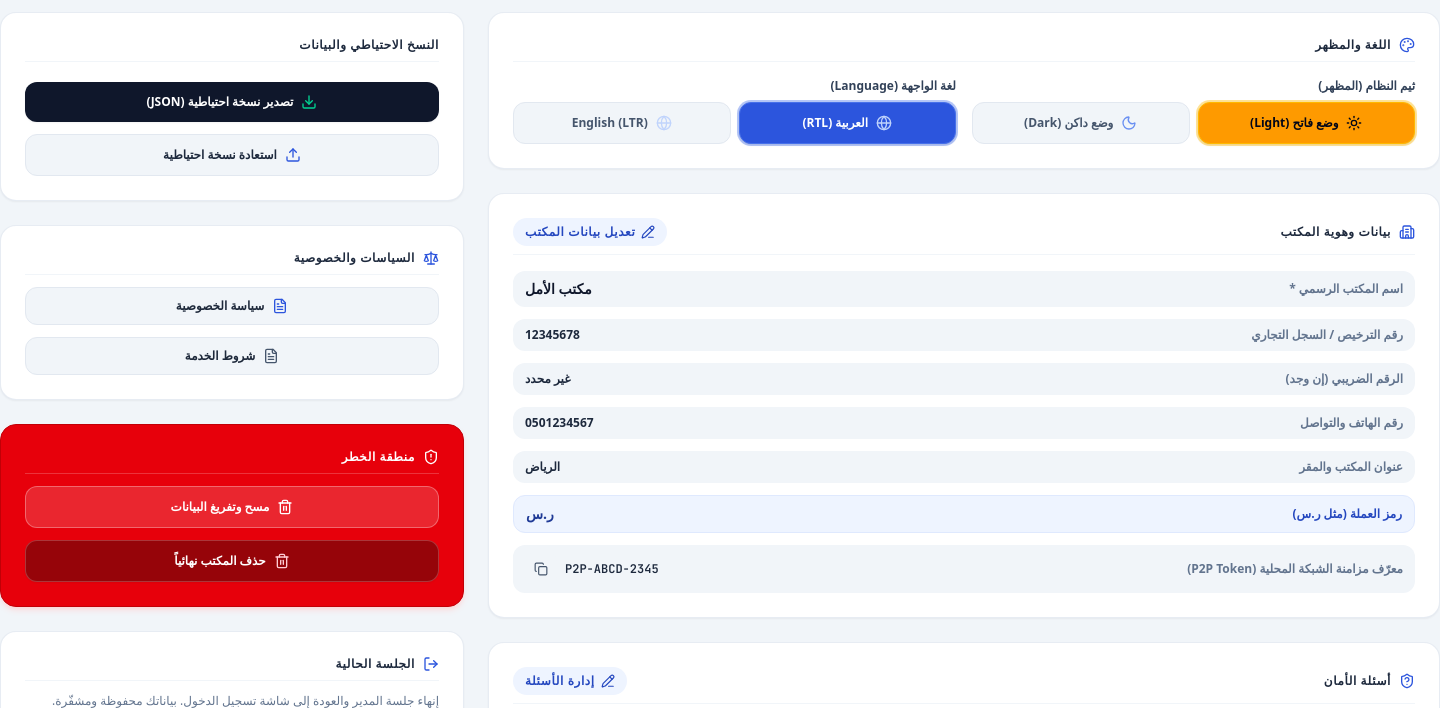
Test case: SettingsManager › discards unsaved edits when cancel is clicked
Click the button "تعديل بيانات المكتب".
click(590, 232)  # box [513,218,667,246]
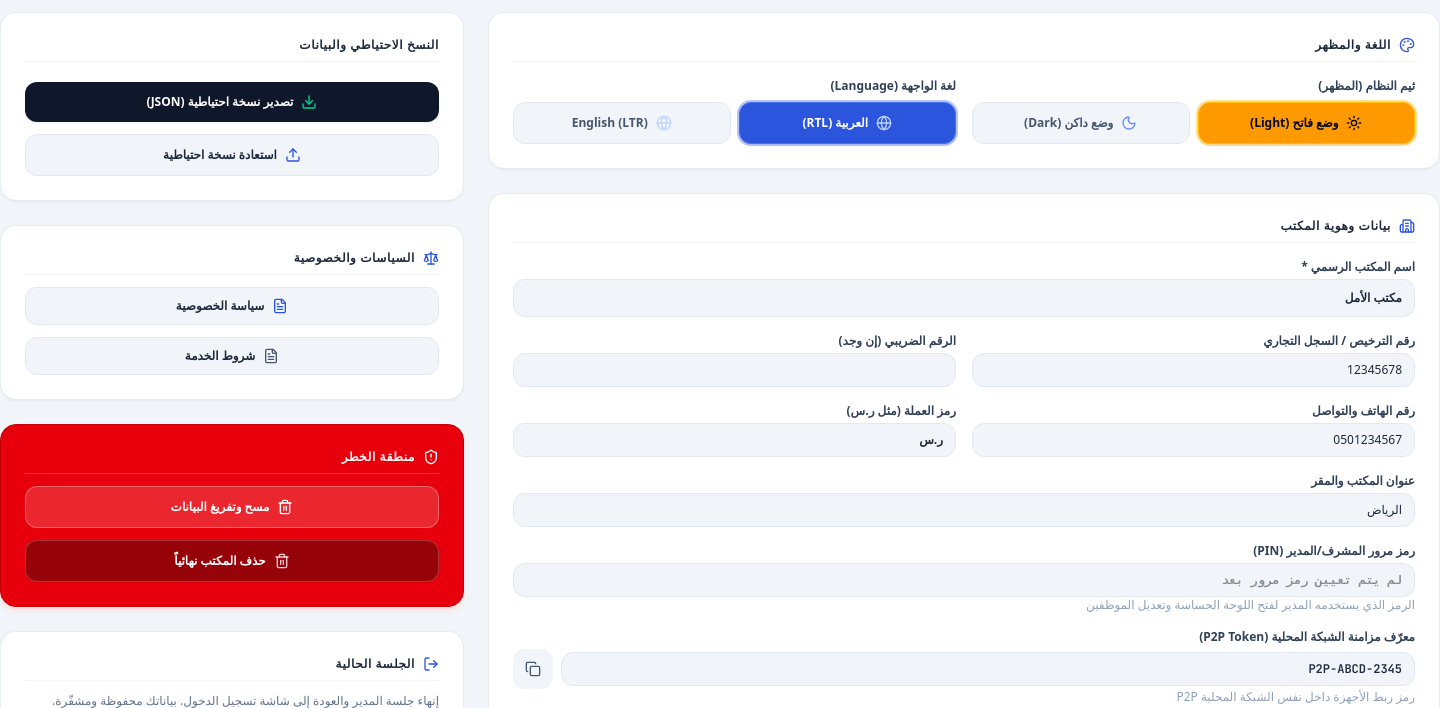
Replace the text in the field showing "مكتب الأمل" below "اسم المكتب الرسمي *" with "مكتب جديد" at (964, 298), box [513,279,1415,317]
(page scrolled)
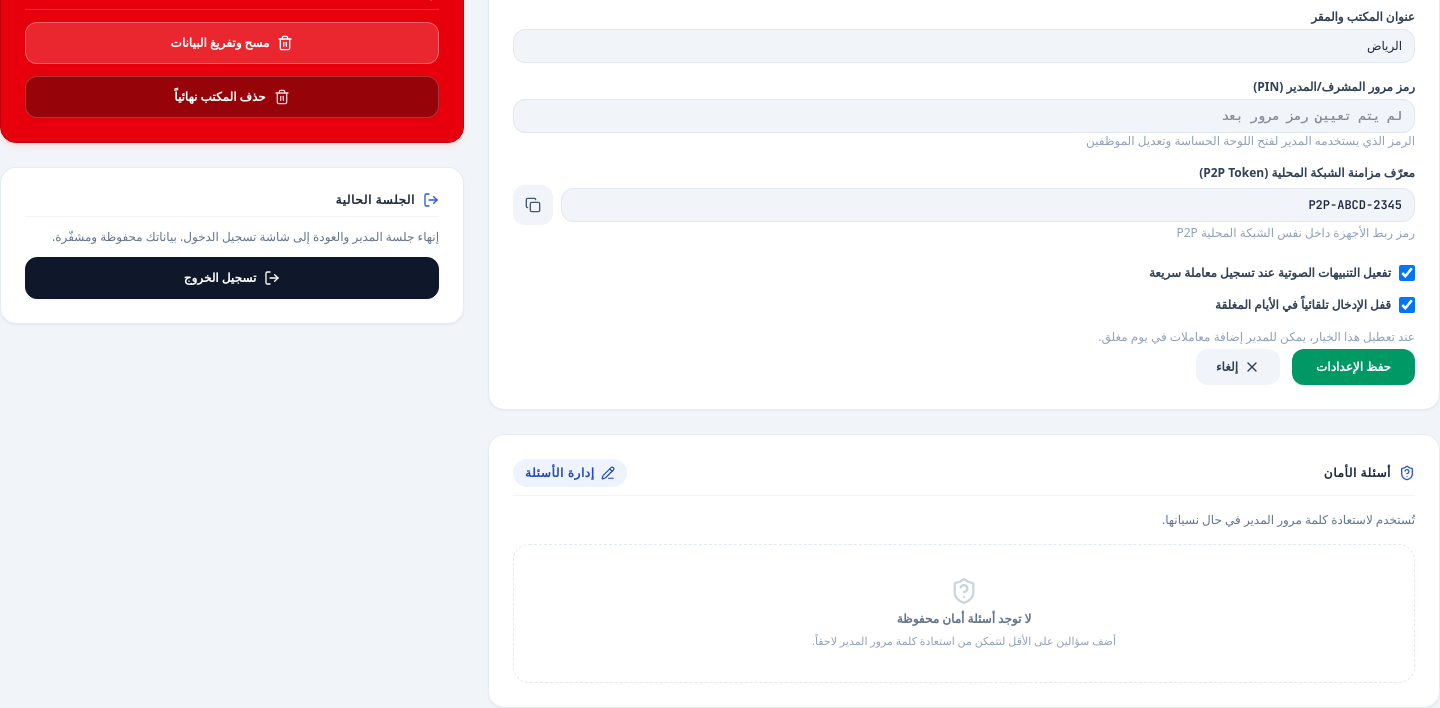
Click the button "إلغاء".
click(1238, 367)  # box [1196,349,1280,385]
(page scrolled)
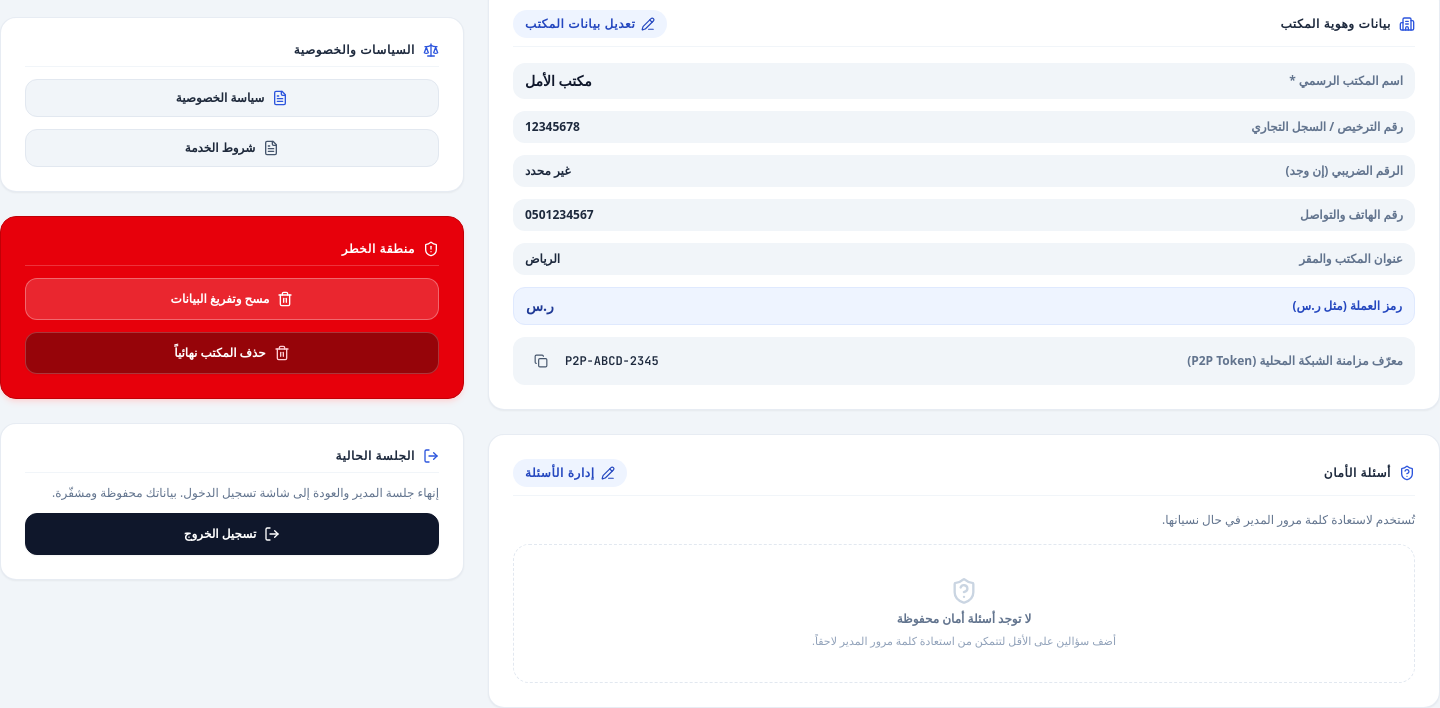
expect the text "مكتب الأمل" is shown: met, box [525,71,592,91]
